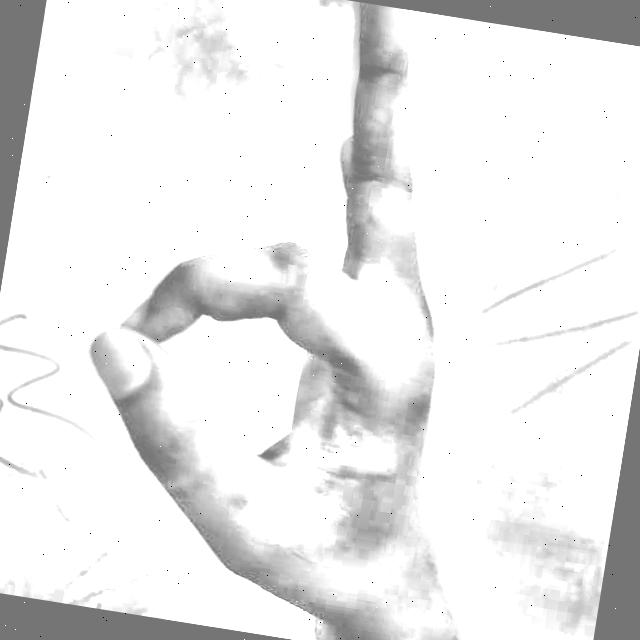Ca: (28, 0, 582, 640)
